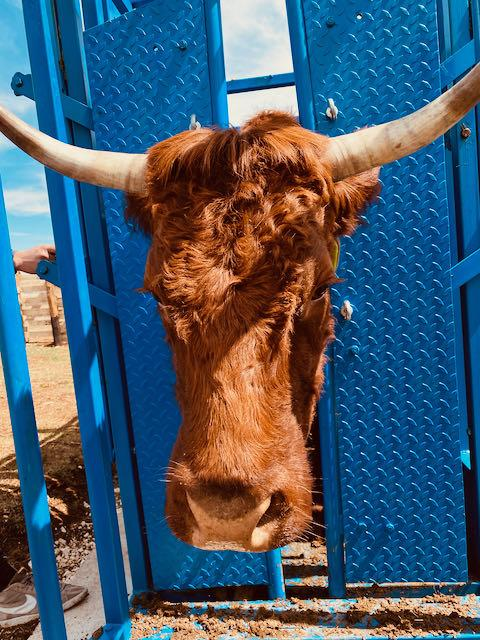muzzles: (154, 476, 320, 558)
